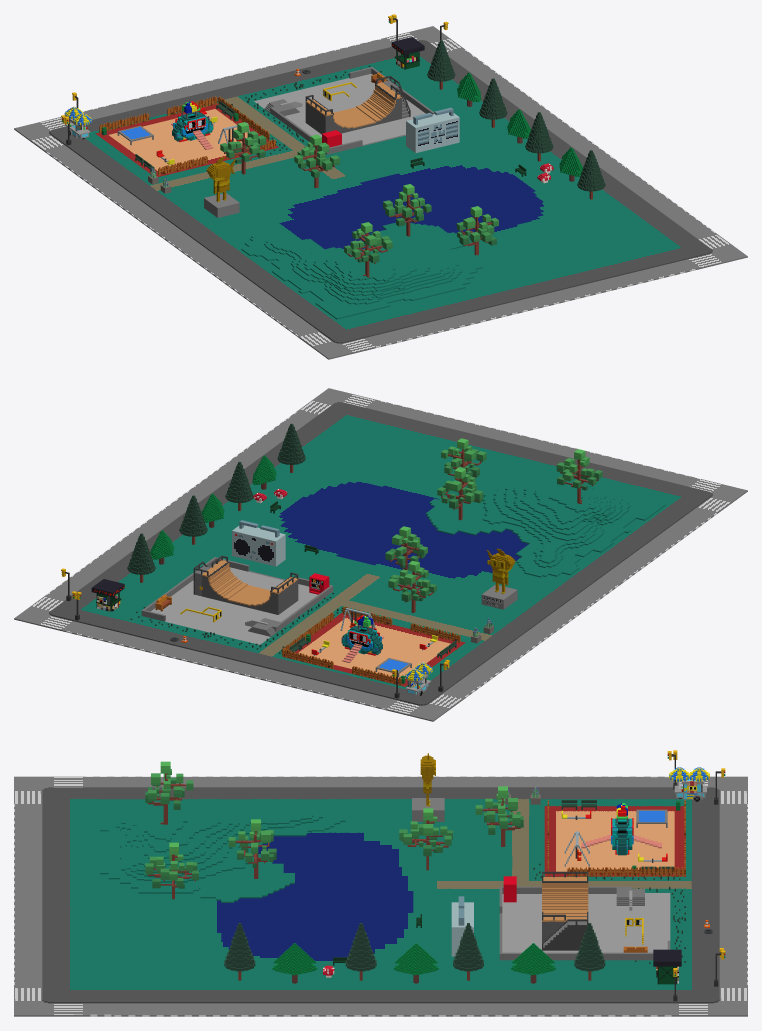
File: Block_Park.glb
3 views of the same model, one above another, from view 1: azimuth 30°, elevation 25°; view 2: azimuth 150°, elevation 25°; view 3: azimuth 270°, elevation 25° (orthographic). The views are drawn at different scales.
Parts seen in each view (by area): view 1: Block_Park; view 2: Block_Park; view 3: Block_Park.
Boxes of the visible parts, left/top/right/bottom form: Block_Park: left=14, top=14, right=747, bottom=359; Block_Park: left=14, top=388, right=747, bottom=721; Block_Park: left=14, top=750, right=747, bottom=1016.
Bounding box in the file's own units: 4 × 0.6 × 5.2.
Materials: 1 (1 with a texture image).
